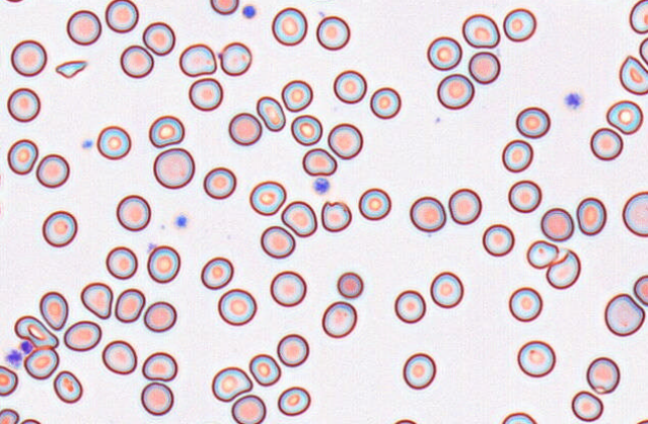PLT: (562, 89, 583, 112), (4, 348, 22, 368), (312, 178, 331, 196), (239, 3, 257, 20), (17, 339, 33, 354), (174, 214, 189, 229), (82, 138, 93, 149)
RBC: (153, 147, 195, 189), (604, 293, 645, 336), (14, 314, 58, 349), (211, 366, 252, 402), (217, 288, 256, 325), (517, 340, 555, 377), (271, 7, 307, 46), (10, 39, 47, 76), (280, 200, 317, 237), (321, 300, 357, 338), (436, 73, 474, 109), (461, 13, 500, 48), (409, 196, 446, 232), (269, 270, 306, 306), (41, 210, 77, 247), (327, 122, 363, 159), (606, 99, 643, 134), (249, 180, 286, 215), (115, 194, 150, 231), (586, 356, 620, 394), (146, 245, 180, 283), (178, 43, 217, 76), (66, 9, 101, 45), (101, 339, 137, 374), (402, 352, 436, 389), (96, 125, 131, 160), (508, 286, 542, 322), (426, 36, 462, 70), (80, 282, 113, 319), (448, 187, 481, 224), (430, 271, 463, 308), (148, 115, 185, 148), (6, 87, 40, 122), (35, 153, 69, 188), (502, 7, 536, 42), (188, 77, 223, 111), (218, 41, 252, 76), (316, 15, 350, 50), (23, 346, 59, 379), (63, 320, 101, 351), (119, 44, 153, 78), (540, 207, 574, 241), (507, 179, 541, 213), (333, 69, 367, 103), (104, 0, 139, 33), (260, 225, 295, 258), (622, 191, 647, 237), (7, 138, 38, 175), (576, 197, 606, 235), (39, 291, 68, 330), (140, 381, 173, 415), (142, 21, 175, 55), (228, 112, 262, 145), (276, 333, 309, 367), (589, 127, 623, 160), (619, 55, 647, 95), (515, 106, 550, 138), (248, 353, 281, 386), (203, 166, 236, 199), (200, 256, 233, 289), (358, 187, 391, 220), (394, 289, 426, 323), (105, 245, 137, 279), (114, 288, 145, 323), (141, 351, 177, 381), (256, 95, 286, 131), (482, 223, 514, 256), (501, 139, 533, 172), (468, 51, 500, 84), (281, 79, 313, 112), (369, 86, 401, 119), (290, 114, 322, 146), (143, 301, 176, 332), (231, 394, 266, 423), (302, 147, 337, 176), (571, 390, 603, 421), (320, 200, 351, 232), (526, 239, 559, 269), (277, 386, 310, 416), (53, 370, 82, 403), (336, 271, 363, 298), (629, 0, 647, 34), (0, 365, 18, 396), (209, 0, 239, 15), (633, 274, 647, 306), (500, 411, 537, 423), (0, 408, 19, 423), (639, 36, 648, 65), (392, 418, 417, 423), (19, 418, 41, 423), (3, 0, 24, 3), (636, 418, 647, 423)
Schistocyte: (547, 250, 584, 291), (55, 62, 90, 81)
